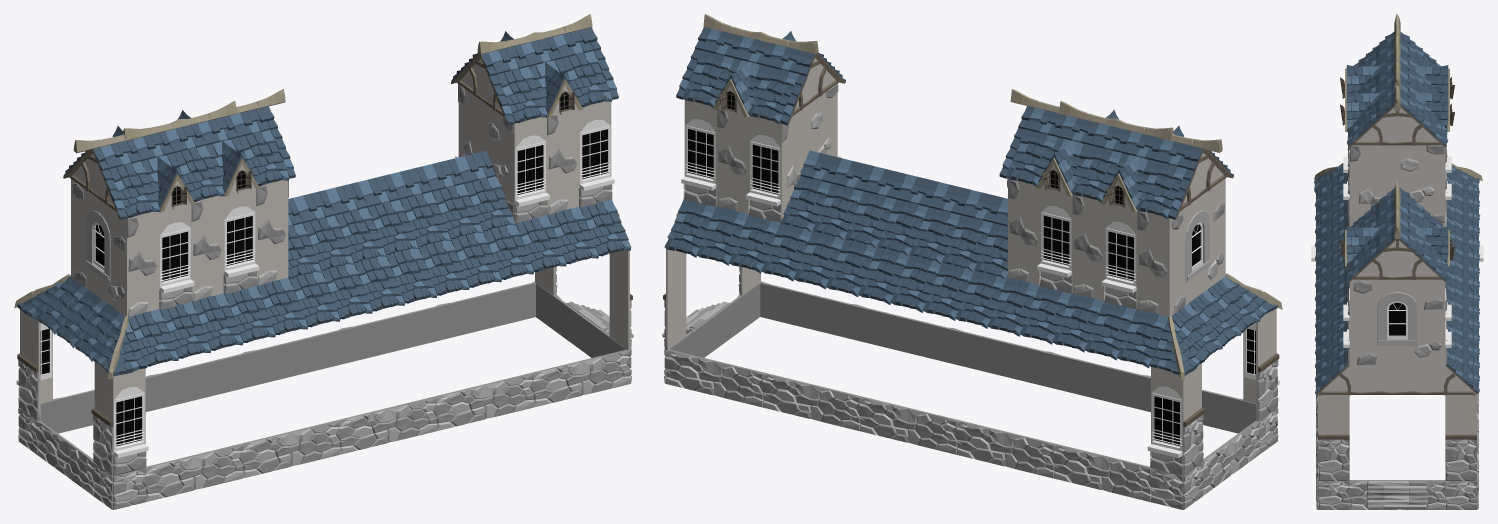
The model's file is HOUSE_16_PARTS.fbx.
3 renders of one model, left to right at view 1: azimuth 30°, elevation 25°; view 2: azimuth 150°, elevation 25°; view 3: azimuth 270°, elevation 25°, orthographic. The views are drawn at different scales.
Visible parts, largest first — view 1: WINDOW_07_2, WALL_05_3, FOUNDATION_01_11, FOUNDATION_01_10, FOUNDATION_01_9, FOUNDATION_01_2, FOUNDATION_01_3, FOUNDATION_01_4, FOUNDATION_01_5, FOUNDATION_01_6, FOUNDATION_01_8, WINDOW_02_6 (+67 smaller); view 2: WINDOW_07_2, WALL_05_3, FOUNDATION_01_10, FOUNDATION_01_11, FOUNDATION_01_9, FOUNDATION_01_8, FOUNDATION_01_12, FOUNDATION_01_5, FOUNDATION_01_4, FOUNDATION_01_3, FOUNDATION_01_6, WINDOW_02_15 (+66 smaller); view 3: WINDOW_07_3, WALL_05_2, WALL_04_21, WALL_04_22, STAIRS_03_2, FOUNDATION_01_7, ROOF_TRIANGLE_WOOD_6, ROOF_TRIANGLE_WOOD_7, ROOF_TRIANGLE_WOOD_8, ROOF_TRIANGLE_WOOD_3, FOUNDATION_03_7, FOUNDATION_03_6 (+77 smaller).
Boxes of the visible parts, bbox=[...] form: WINDOW_07_2: bbox=[71, 179, 127, 315]; WALL_05_3: bbox=[458, 84, 514, 220]; FOUNDATION_01_11: bbox=[148, 352, 247, 410]; FOUNDATION_01_10: bbox=[245, 328, 344, 387]; FOUNDATION_01_9: bbox=[342, 305, 441, 363]; FOUNDATION_01_2: bbox=[145, 443, 243, 501]; FOUNDATION_01_3: bbox=[241, 420, 340, 478]; FOUNDATION_01_4: bbox=[338, 396, 437, 454]; FOUNDATION_01_5: bbox=[435, 372, 534, 430]; FOUNDATION_01_6: bbox=[532, 349, 630, 407]; FOUNDATION_01_8: bbox=[439, 281, 535, 339]; WINDOW_02_6: bbox=[112, 368, 148, 475]; WINDOW_07_2: bbox=[1168, 178, 1225, 316]; WALL_05_3: bbox=[781, 83, 838, 218]; FOUNDATION_01_10: bbox=[859, 396, 957, 454]; FOUNDATION_01_11: bbox=[956, 420, 1054, 478]; FOUNDATION_01_9: bbox=[762, 372, 860, 430]; FOUNDATION_01_8: bbox=[665, 349, 763, 407]; FOUNDATION_01_12: bbox=[1053, 443, 1151, 501]; FOUNDATION_01_5: bbox=[855, 304, 953, 363]; FOUNDATION_01_4: bbox=[952, 328, 1050, 387]; FOUNDATION_01_3: bbox=[1049, 352, 1147, 410]; FOUNDATION_01_6: bbox=[760, 281, 856, 339]; WINDOW_02_15: bbox=[1147, 367, 1183, 475]; WINDOW_07_3: bbox=[1349, 279, 1445, 365]; WALL_05_2: bbox=[1349, 145, 1445, 226]; WALL_04_21: bbox=[1318, 394, 1349, 480]; WALL_04_22: bbox=[1445, 394, 1476, 480]; STAIRS_03_2: bbox=[1367, 481, 1427, 508]; FOUNDATION_01_7: bbox=[1349, 480, 1445, 509]; ROOF_TRIANGLE_WOOD_6: bbox=[1381, 365, 1413, 394]; ROOF_TRIANGLE_WOOD_7: bbox=[1349, 365, 1381, 394]; ROOF_TRIANGLE_WOOD_8: bbox=[1413, 365, 1445, 394]; ROOF_TRIANGLE_WOOD_3: bbox=[1381, 116, 1413, 145]; FOUNDATION_03_7: bbox=[1445, 480, 1476, 509]; FOUNDATION_03_6: bbox=[1318, 480, 1349, 509].
Size of the model in its own units: 1722 by 986 by 541.
